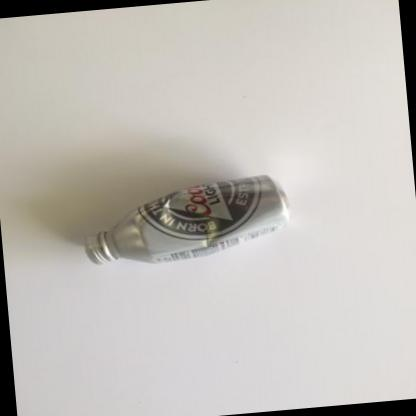Metal: (86, 174, 288, 263)
